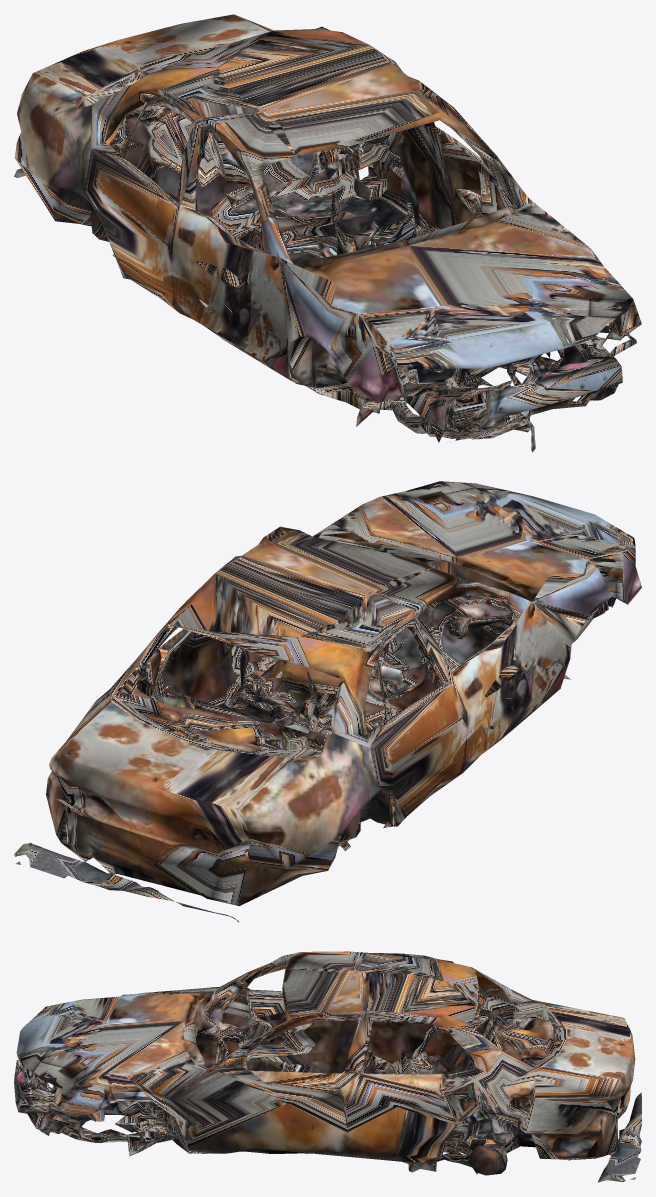
File: burnt_car.m.glb
The picture shows the model from 3 angles, top to bottom: view 1: azimuth 30°, elevation 25°; view 2: azimuth 150°, elevation 25°; view 3: azimuth 270°, elevation 25°; orthographic projection. The views are drawn at different scales.
Parts seen in each view (by area): view 1: burnt_car_Mat_0; view 2: burnt_car_Mat_0; view 3: burnt_car_Mat_0.
Boxes of the visible parts, box(x1,y1,x2,y2) form: burnt_car_Mat_0: box(14, 14, 641, 452); burnt_car_Mat_0: box(14, 481, 641, 922); burnt_car_Mat_0: box(14, 951, 641, 1182).
Size of the model in its own units: 2.43 by 1.72 by 6.13.
1 material, 1 textured.
